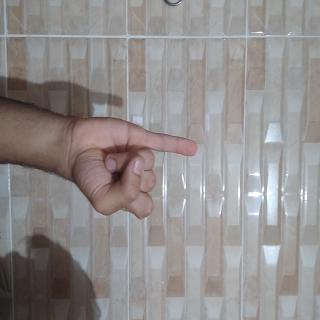MEEM: (84, 159, 163, 320)
